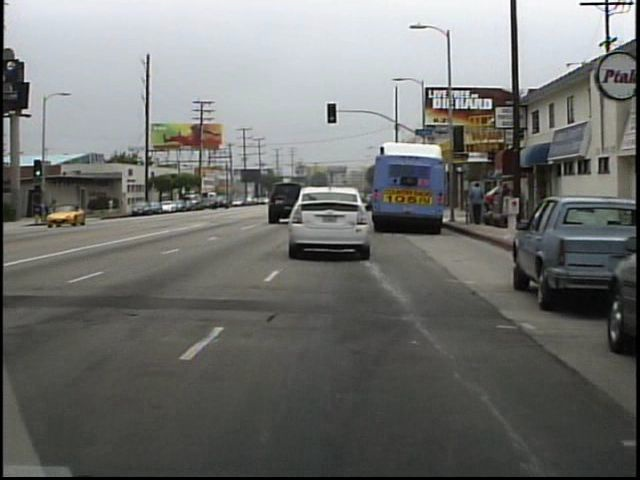person: (464, 181, 485, 228), (107, 194, 118, 217)
